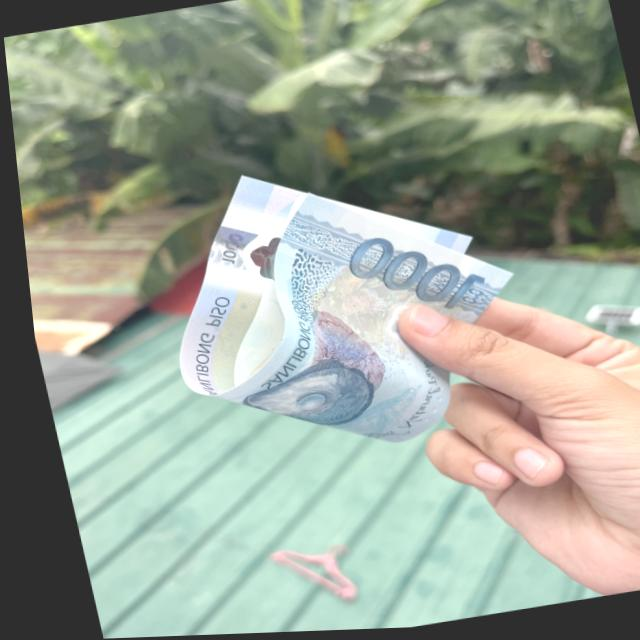clear_window: (193, 212, 283, 297)
